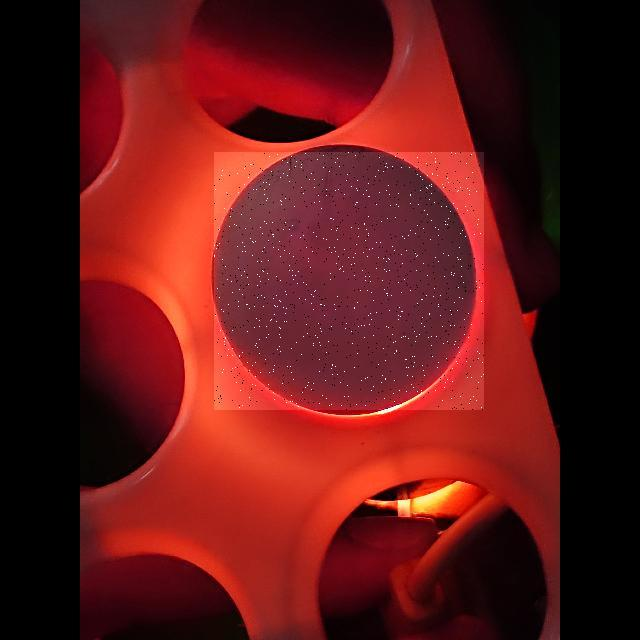Fertile: (214, 152, 484, 410)
